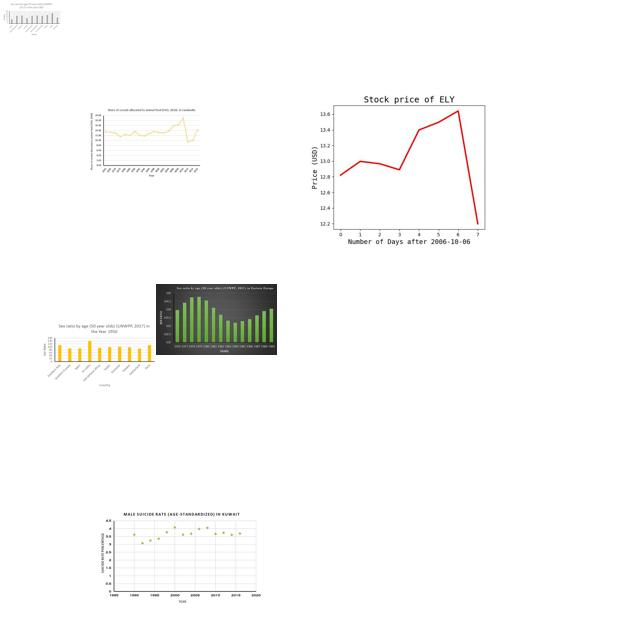Graph: (299, 86, 514, 247), (100, 510, 261, 604), (156, 284, 277, 355), (89, 106, 202, 178), (40, 321, 156, 388), (2, 2, 61, 36)
